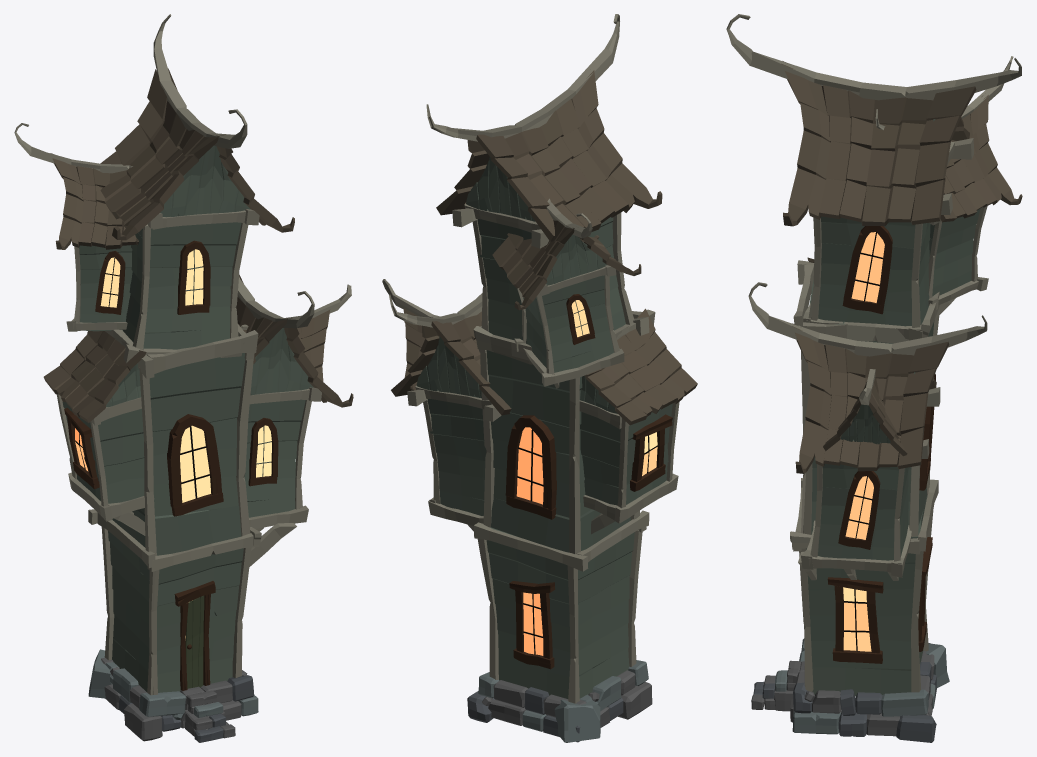
Rendered from house1.glb.
3 views of the same model, side by side, from view 1: azimuth 30°, elevation 25°; view 2: azimuth 150°, elevation 25°; view 3: azimuth 270°, elevation 25° (orthographic). The views are drawn at different scales.
Parts seen in each view (by area): view 1: house1; view 2: house1; view 3: house1.
Part boxes in pixels (x1,y1,x2,y2): house1: [14, 14, 353, 742]; house1: [382, 14, 697, 742]; house1: [726, 14, 1022, 742].
Bounding box in the file's own units: 6.83 × 14.56 × 5.58.
